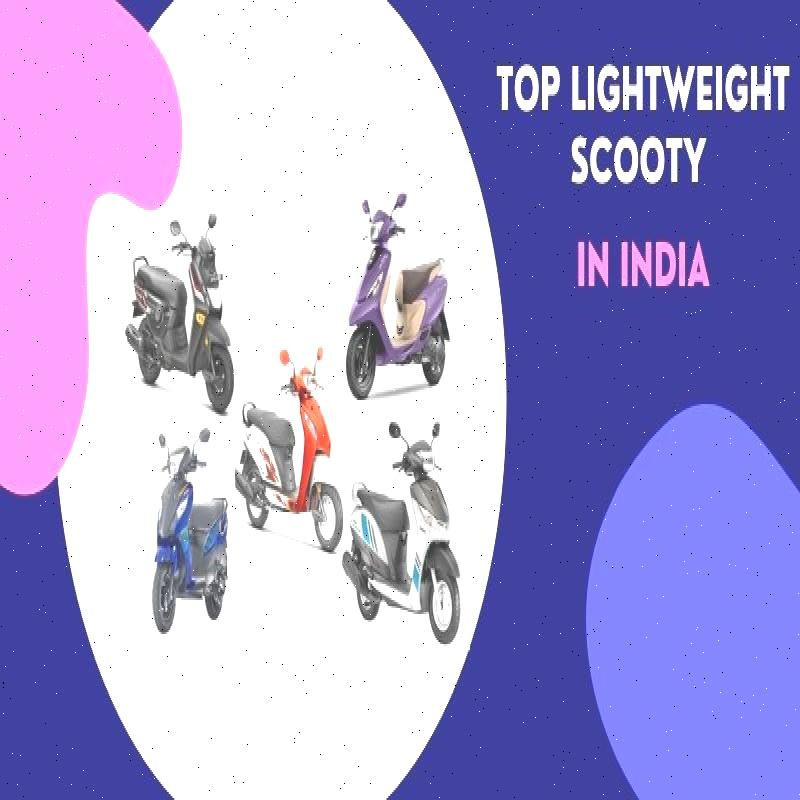bike: (349, 401, 466, 652), (120, 202, 245, 405), (233, 340, 343, 552), (346, 184, 450, 405), (147, 406, 240, 649)
